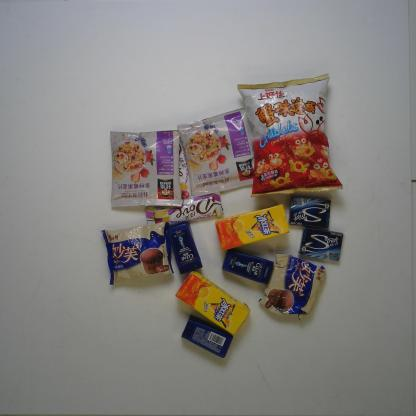Chocolate: (144, 193, 224, 227), (160, 134, 194, 206)
Dessert: (100, 221, 176, 289), (258, 251, 327, 320)
Drink: (175, 271, 251, 337), (215, 204, 291, 251)
Gum: (299, 228, 344, 263), (287, 194, 332, 228)
Instant Drink: (178, 105, 260, 200), (107, 128, 184, 210)
Personal Hygiene: (217, 243, 278, 287), (160, 218, 204, 275), (180, 317, 235, 359)
Puffed Food: (238, 73, 344, 199)
